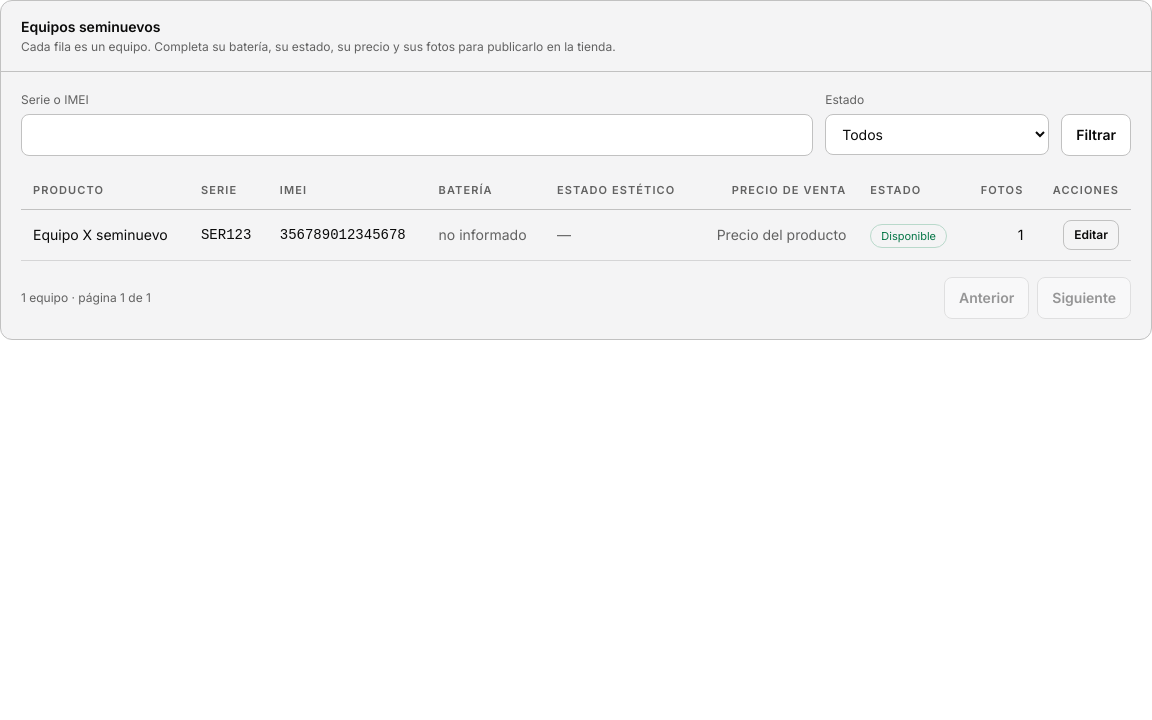
Test: Inventario › Seminuevos › editar batería y precio manda sólo la ficha pública; vacío es null
The width and height of the screenshot is (1152, 720).
Click the button with aria-label "Editar SER123" at (1091, 234), box [1063,220,1119,250]
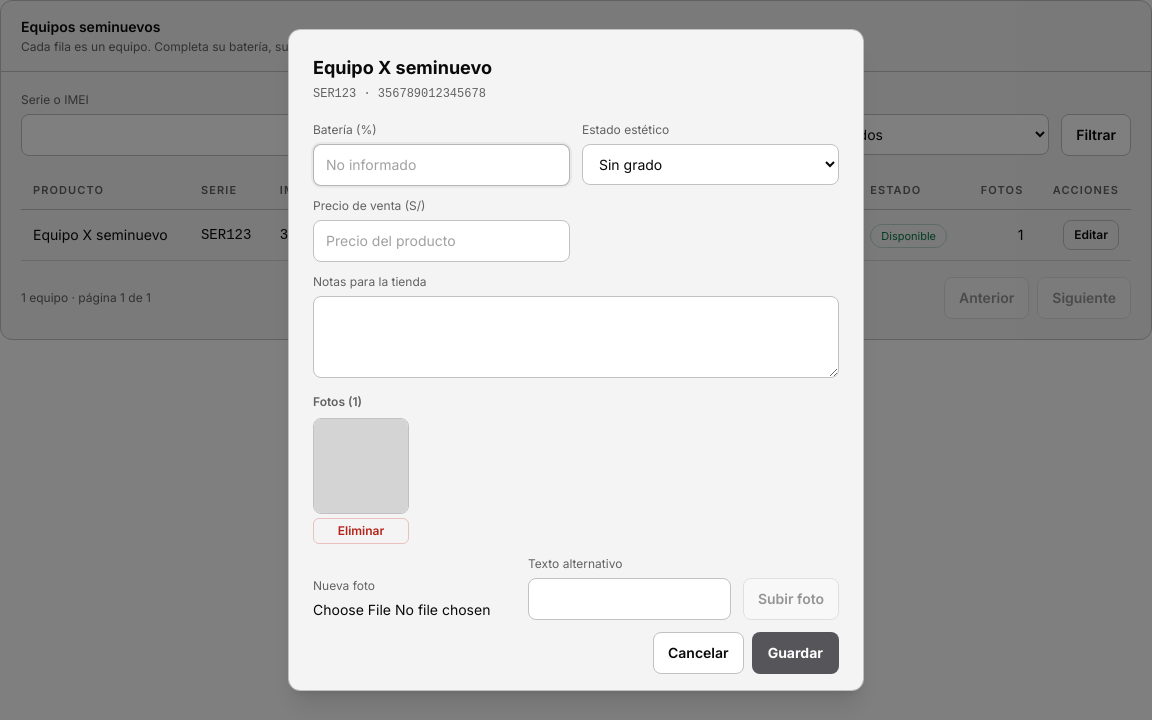
Type "88" into the field labelled "Batería (%)" at (442, 165), box [313,144,570,186]
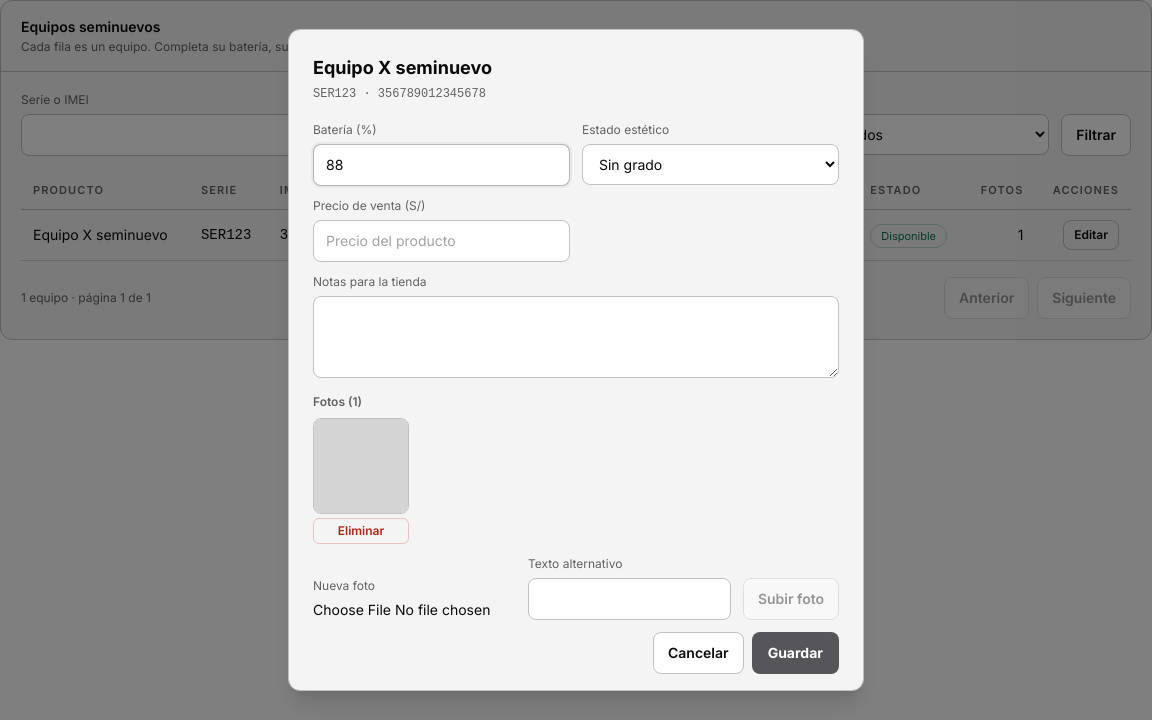
Type "2599" into the field labelled "Precio de venta (S/)" at (442, 241), box [313,220,570,262]
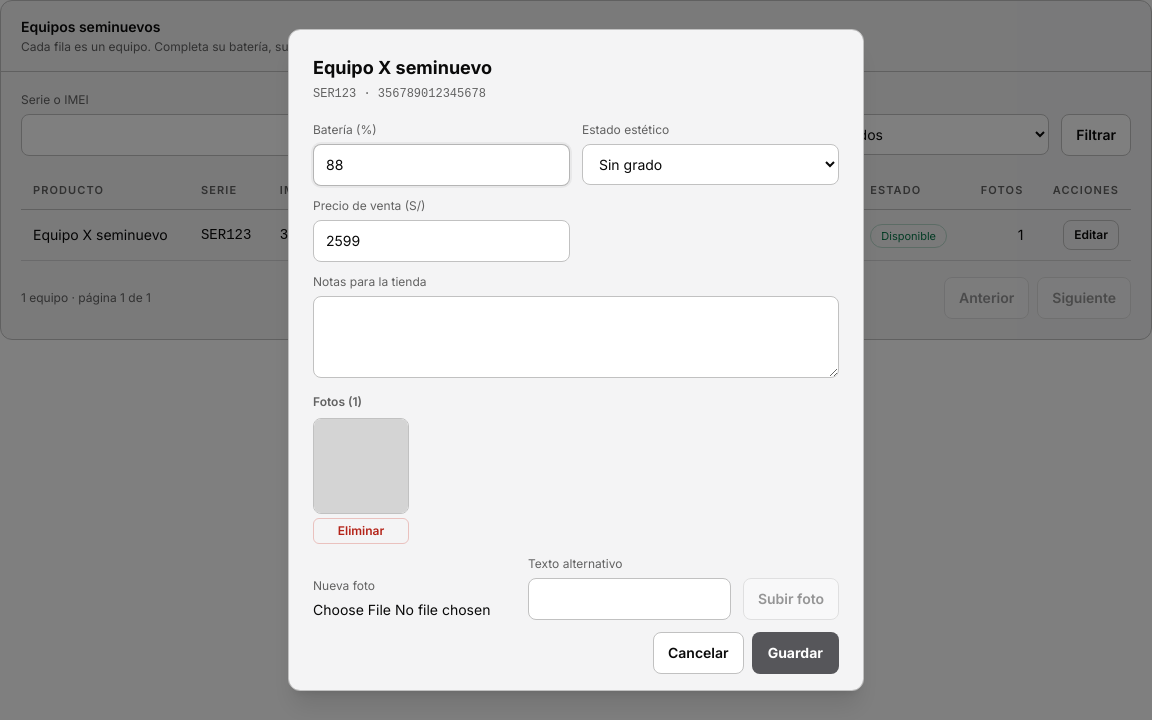
Select "Excelente" in the dropdown labelled "Estado estético" at (710, 164), box [582,144,839,185]
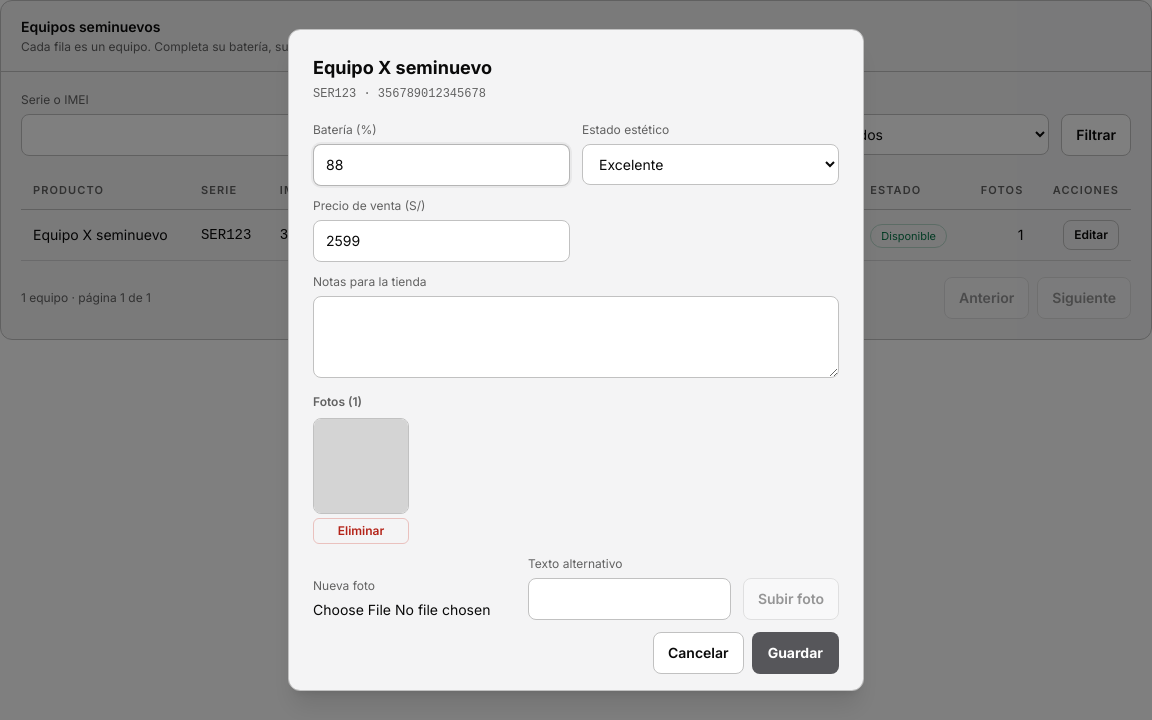
Click the button "Guardar" at (795, 653), box [752,632,839,674]
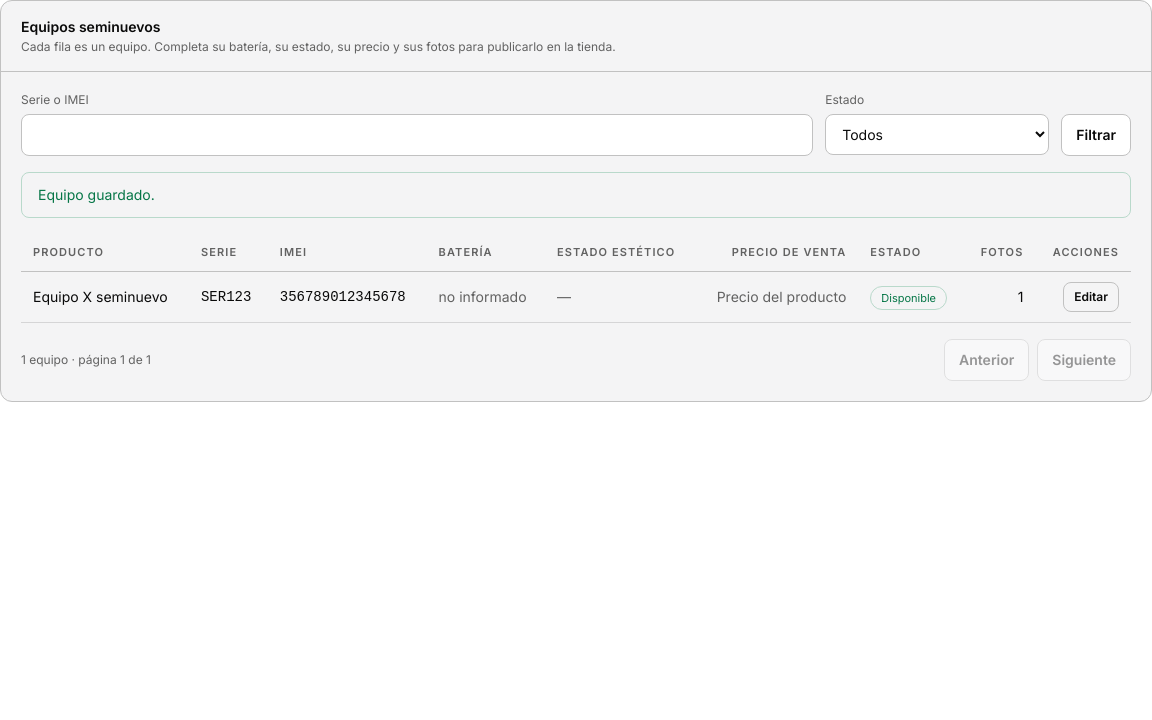
Result: the dialog is gone
